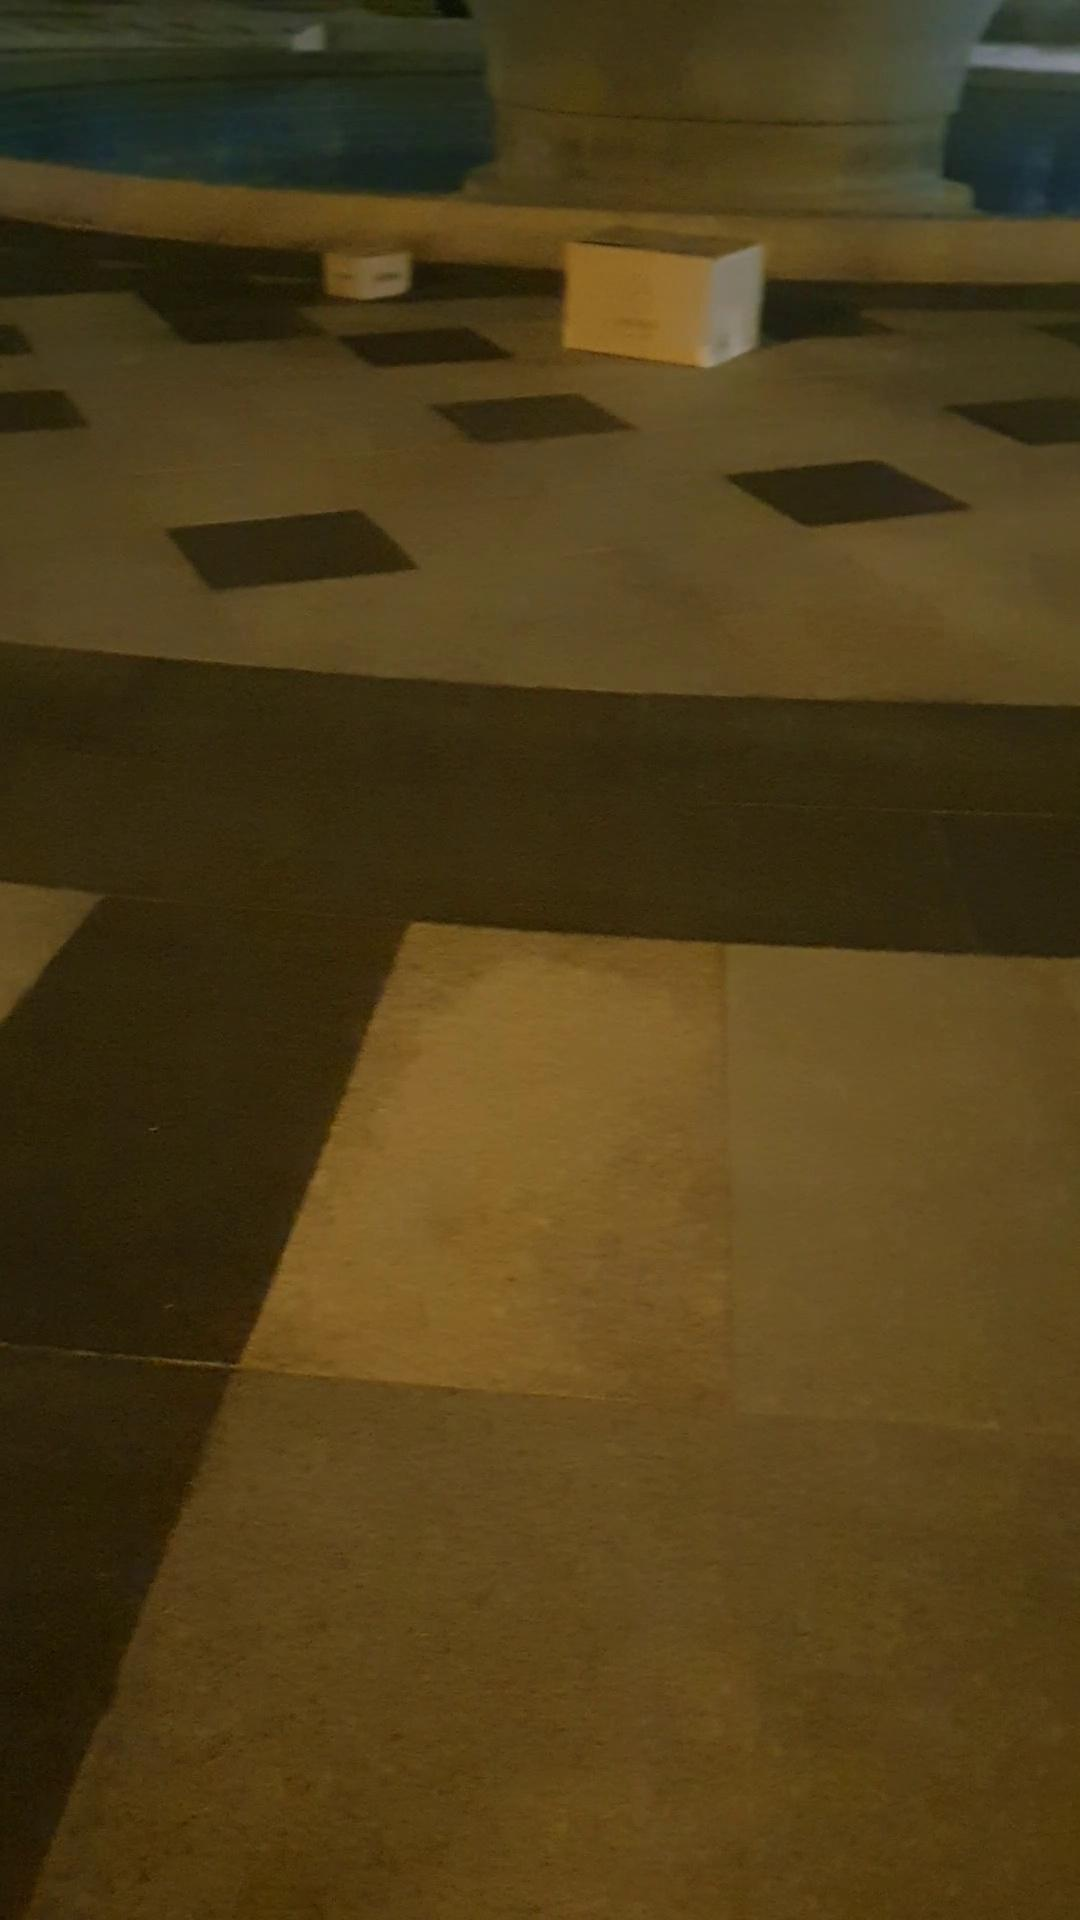Box: (558, 208, 764, 380), (295, 229, 425, 319)
